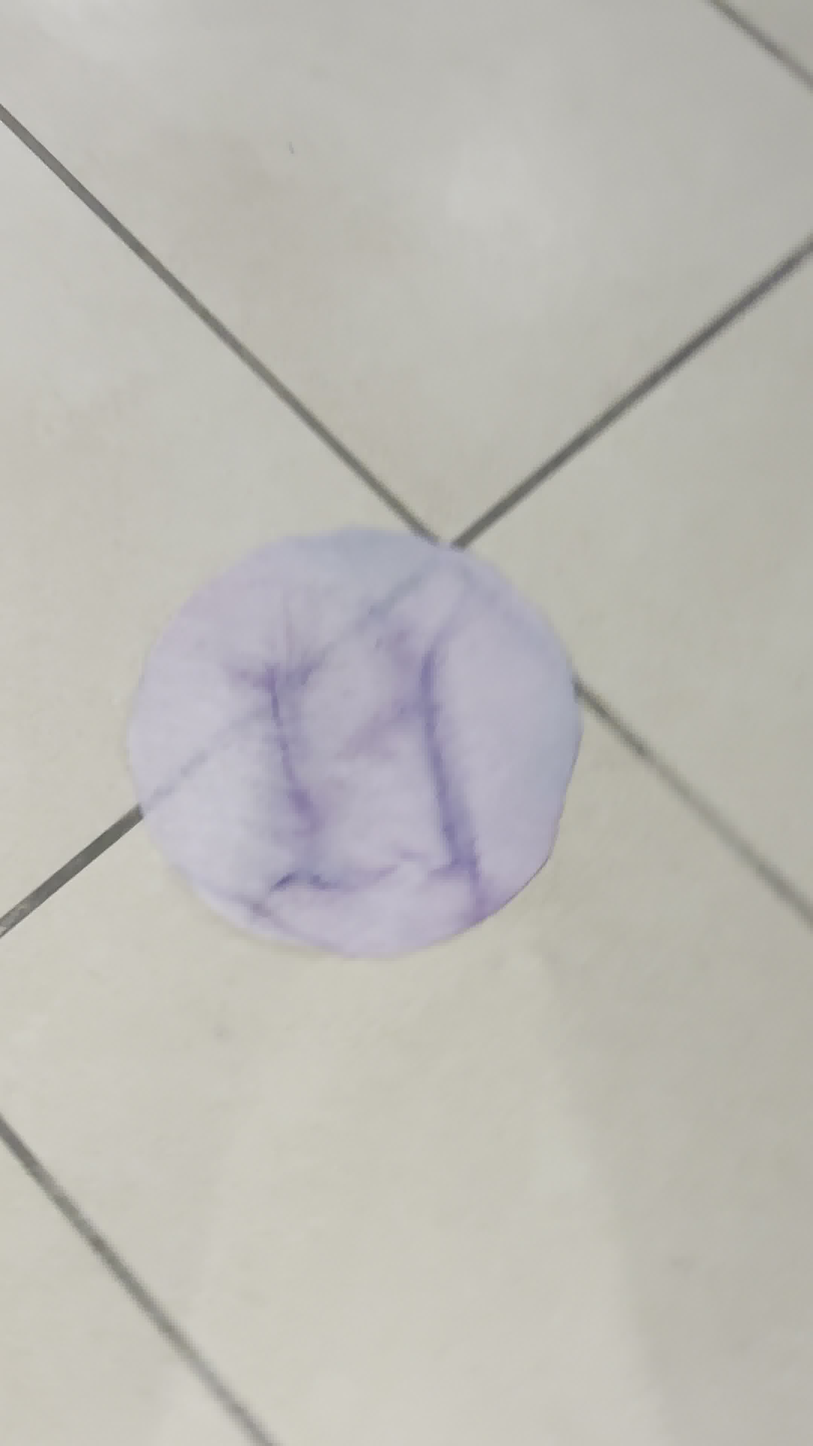Target: (118, 529, 583, 960)
